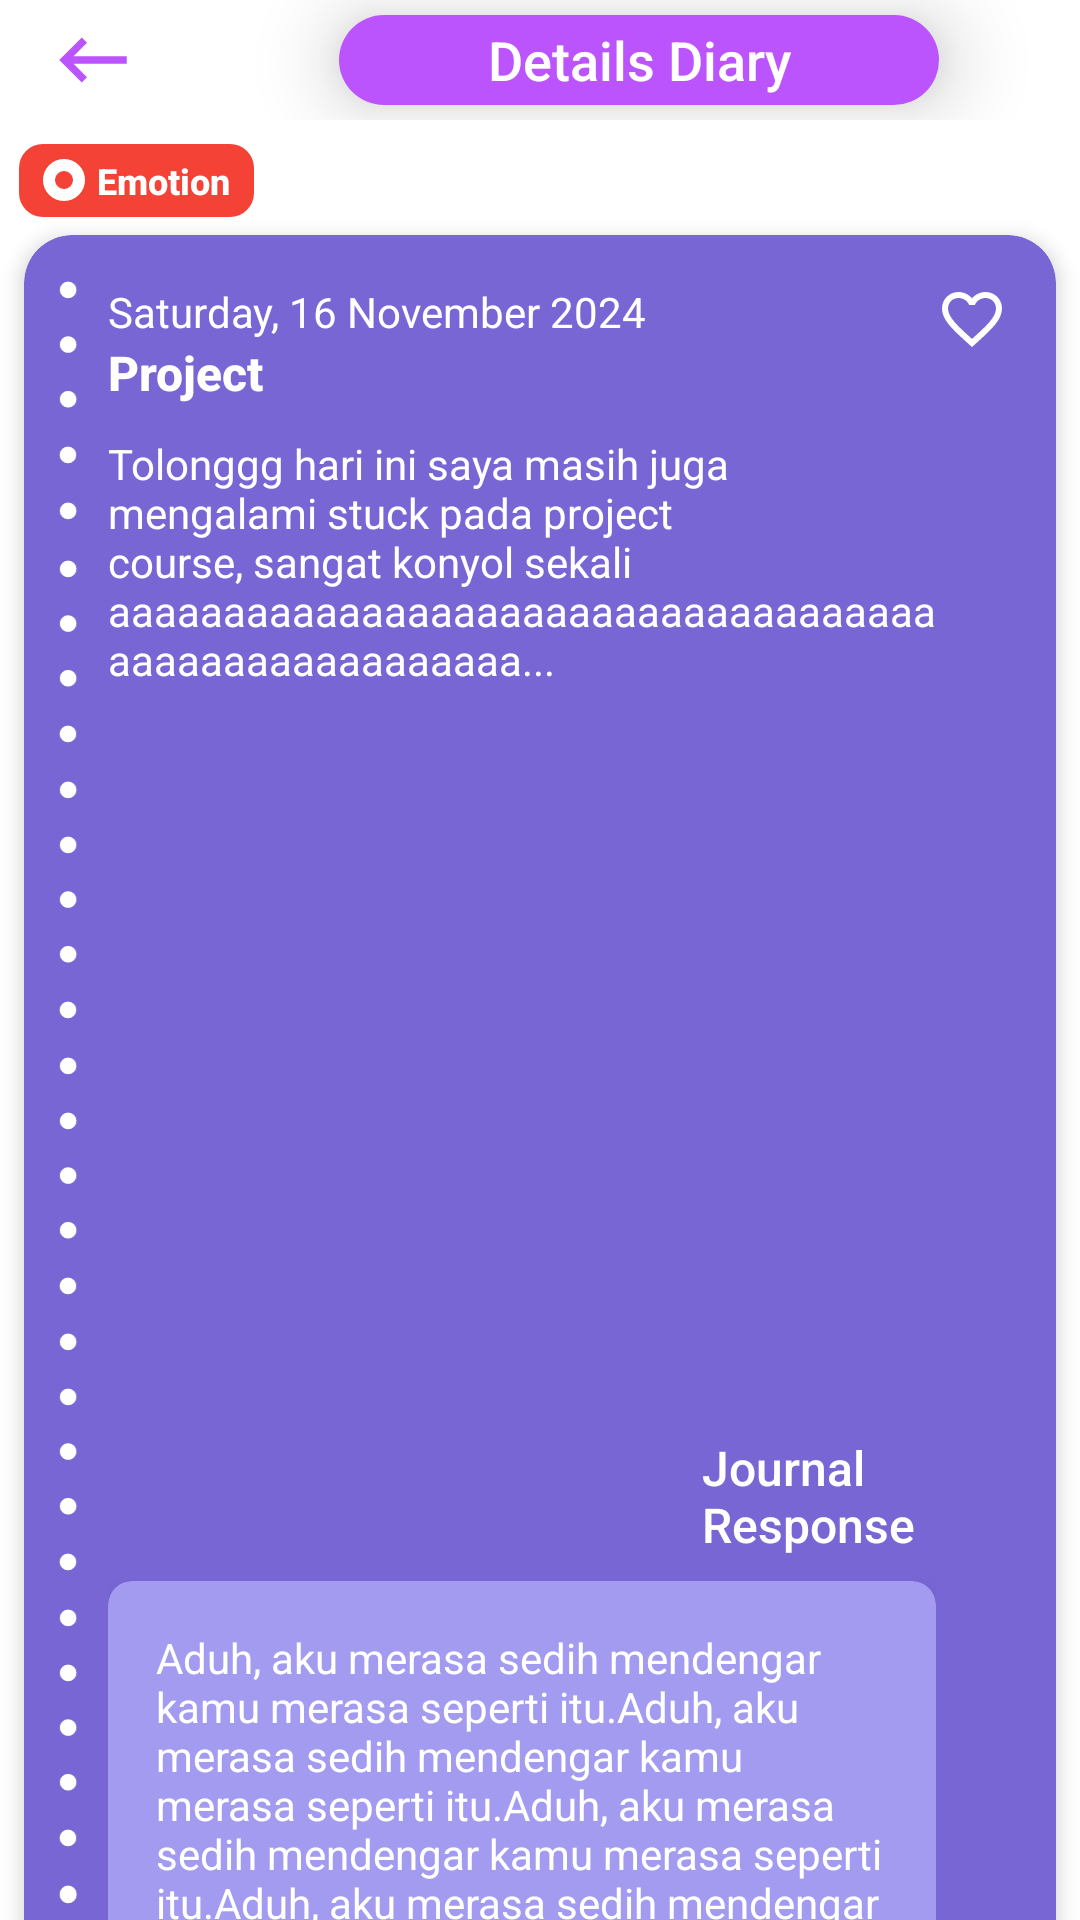

Icon click points for this 1080px×1920px phone screenshot, format point (x, y):
Back: point (93, 60)
Favorite: point (972, 319)
